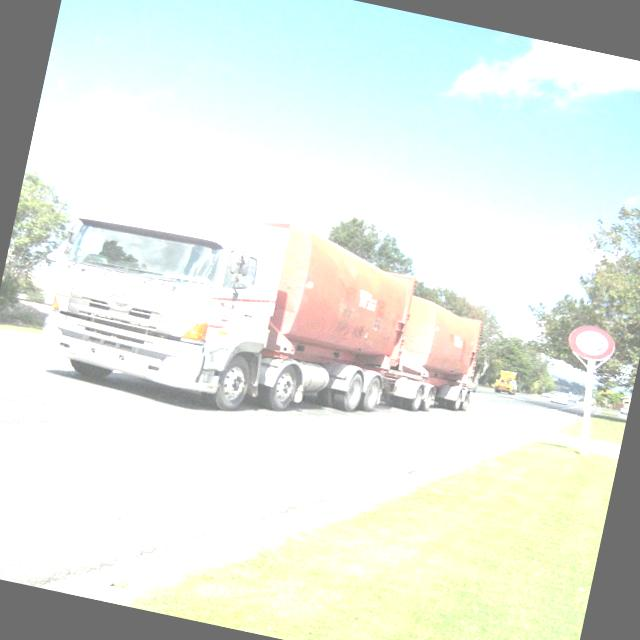Vehicle: (33, 176, 424, 444), (378, 293, 488, 422), (492, 369, 520, 396), (550, 392, 568, 405), (565, 394, 578, 403), (618, 405, 628, 415), (540, 392, 548, 398), (548, 391, 554, 398)
